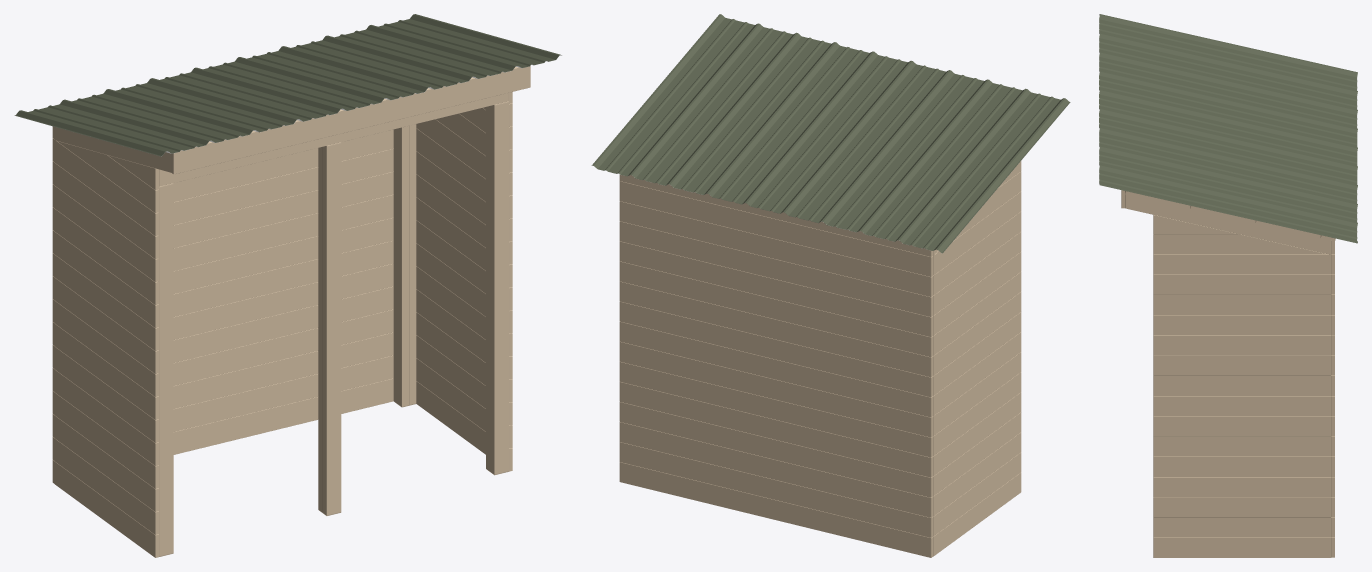
The model's file is Wood_Shed_01.glb.
3 renders of one model, left to right at view 1: azimuth 30°, elevation 25°; view 2: azimuth 150°, elevation 25°; view 3: azimuth 270°, elevation 25°, orthographic. The views are drawn at different scales.
Parts seen in each view (by area): view 1: Corrugated Metal.011, Corrugated Metal.010, Corrugated Metal.012, 1x6in Board.080, 2x4in Board.663, 2x4in Board.647, 2x4in Board.649, 1x6in Board.087, 1x6in Board.085, 1x6in Board.086, 1x6in Board.084, 1x6in Board.088 (+43 smaller); view 2: Corrugated Metal.011, Corrugated Metal.010, Corrugated Metal.012, 1x6in Board.081, 1x6in Board.087, 1x6in Board.088, 1x6in Board.082, 1x6in Board.090, 1x6in Board.091, 1x6in Board.094, 1x6in Board.083, 1x6in Board.084 (+23 smaller); view 3: Corrugated Metal.011, Corrugated Metal.012, Corrugated Metal.010, 1x6in Board.114, 1x6in Board.119, 1x6in Board.123, 1x6in Board.113, 1x6in Board.115, 1x6in Board.116, 1x6in Board.117, 1x6in Board.118, 1x6in Board.120 (+9 smaller).
Boxes of the visible parts, x1=… form: Corrugated Metal.011: x1=14, y1=78, x2=299, y2=156; Corrugated Metal.010: x1=160, y1=46, x2=430, y2=124; Corrugated Metal.012: x1=291, y1=14, x2=562, y2=92; 1x6in Board.080: x1=171, y1=66, x2=530, y2=174; 2x4in Board.663: x1=322, y1=142, x2=341, y2=515; 2x4in Board.647: x1=490, y1=101, x2=508, y2=475; 2x4in Board.649: x1=159, y1=183, x2=173, y2=556; 1x6in Board.087: x1=52, y1=240, x2=393, y2=345; 1x6in Board.085: x1=52, y1=286, x2=393, y2=391; 1x6in Board.086: x1=52, y1=263, x2=393, y2=368; 1x6in Board.084: x1=52, y1=309, x2=393, y2=414; 1x6in Board.088: x1=52, y1=217, x2=393, y2=322; Corrugated Metal.011: x1=821, y1=70, x2=1070, y2=253; Corrugated Metal.010: x1=706, y1=42, x2=948, y2=223; Corrugated Metal.012: x1=591, y1=14, x2=833, y2=194; 1x6in Board.081: x1=619, y1=462, x2=932, y2=557; 1x6in Board.087: x1=619, y1=341, x2=932, y2=437; 1x6in Board.088: x1=619, y1=321, x2=932, y2=417; 1x6in Board.082: x1=619, y1=442, x2=932, y2=537; 1x6in Board.090: x1=619, y1=281, x2=932, y2=377; 1x6in Board.091: x1=619, y1=261, x2=932, y2=357; 1x6in Board.094: x1=619, y1=201, x2=932, y2=296; 1x6in Board.083: x1=619, y1=422, x2=932, y2=517; 1x6in Board.084: x1=619, y1=402, x2=932, y2=497; Corrugated Metal.011: x1=1099, y1=14, x2=1357, y2=129; Corrugated Metal.012: x1=1099, y1=127, x2=1357, y2=243; Corrugated Metal.010: x1=1099, y1=70, x2=1357, y2=186; 1x6in Board.114: x1=1153, y1=517, x2=1331, y2=537; 1x6in Board.119: x1=1153, y1=416, x2=1331, y2=436; 1x6in Board.123: x1=1153, y1=335, x2=1331, y2=355; 1x6in Board.113: x1=1153, y1=537, x2=1331, y2=557; 1x6in Board.115: x1=1153, y1=497, x2=1331, y2=517; 1x6in Board.116: x1=1153, y1=477, x2=1331, y2=497; 1x6in Board.117: x1=1153, y1=456, x2=1331, y2=476; 1x6in Board.118: x1=1153, y1=436, x2=1331, y2=456; 1x6in Board.120: x1=1153, y1=396, x2=1331, y2=416.
Bounding box in the file's own units: 2.8 × 2.89 × 1.77.
